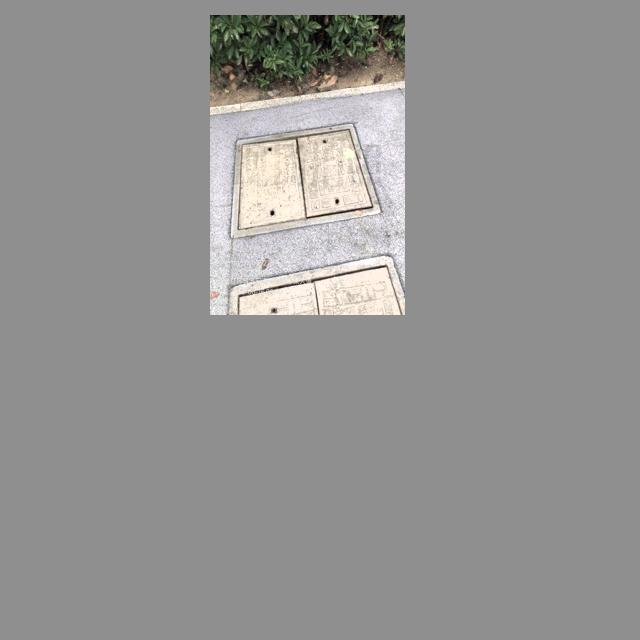good: (229, 122, 381, 237), (229, 255, 405, 315)
